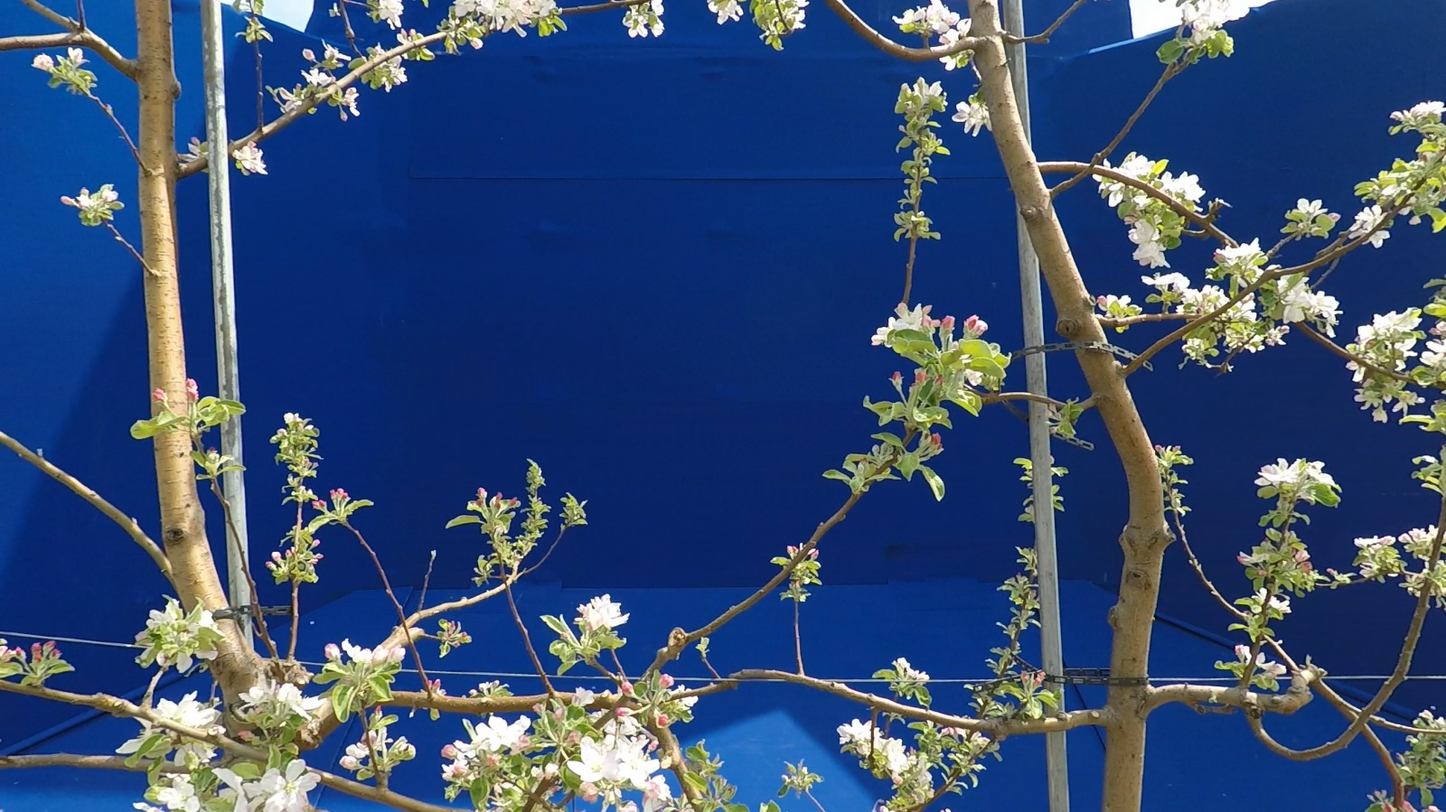flower: (568, 716, 673, 812), (212, 760, 324, 812), (442, 715, 531, 779), (450, 0, 562, 37), (893, 0, 972, 51), (1282, 277, 1343, 338), (1142, 273, 1230, 315), (872, 303, 944, 348), (1183, 0, 1264, 39), (874, 715, 918, 784), (1355, 308, 1423, 350), (1255, 459, 1339, 489), (1129, 219, 1176, 269), (157, 692, 220, 728), (1216, 238, 1268, 278), (276, 684, 328, 721), (578, 594, 630, 630), (343, 639, 406, 668), (116, 717, 164, 754), (1155, 172, 1206, 206), (1348, 205, 1392, 244), (157, 773, 201, 812), (953, 96, 992, 136), (1111, 152, 1156, 182), (838, 720, 872, 759), (174, 737, 217, 767), (1253, 588, 1291, 621), (233, 141, 268, 174), (709, 0, 744, 25), (1292, 200, 1328, 224), (380, 55, 408, 85), (1404, 102, 1446, 122), (1256, 653, 1287, 679), (623, 8, 649, 38), (239, 687, 274, 709), (379, 0, 404, 30), (786, 0, 810, 31), (1421, 340, 1446, 367), (302, 69, 336, 87), (1102, 181, 1125, 207), (324, 42, 352, 63), (940, 51, 966, 71), (1355, 537, 1395, 550), (1394, 337, 1418, 358), (651, 0, 664, 37), (1099, 295, 1131, 310), (1363, 231, 1390, 248), (675, 696, 699, 714), (194, 646, 219, 661), (1235, 645, 1253, 665), (198, 611, 215, 628), (177, 654, 192, 673), (1267, 250, 1273, 256), (154, 786, 160, 791)
